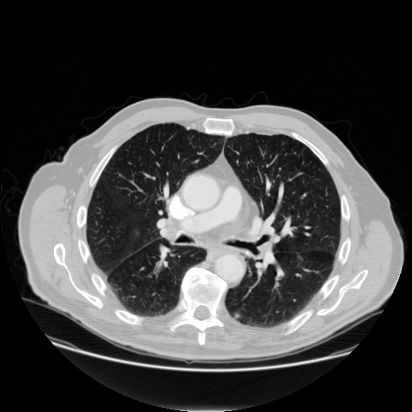nodule: (235, 313, 239, 317)
